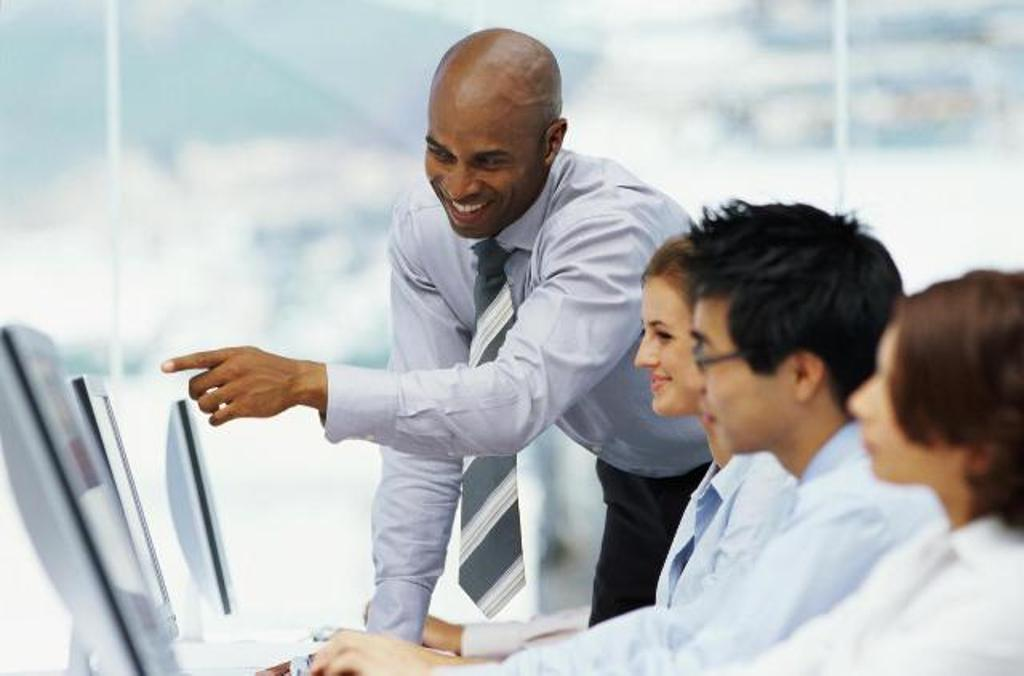face: (848, 318, 970, 482), (694, 284, 806, 460), (638, 272, 726, 418), (430, 96, 516, 232)
